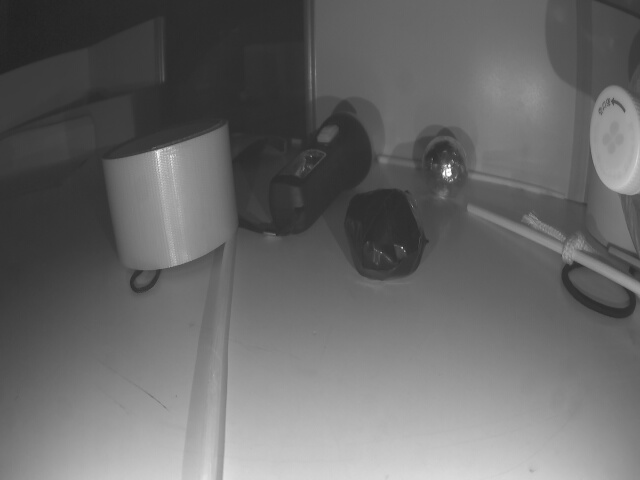Dead: (347, 189, 426, 287)
Live: (424, 135, 468, 199)
Point: (1, 86, 167, 172)
